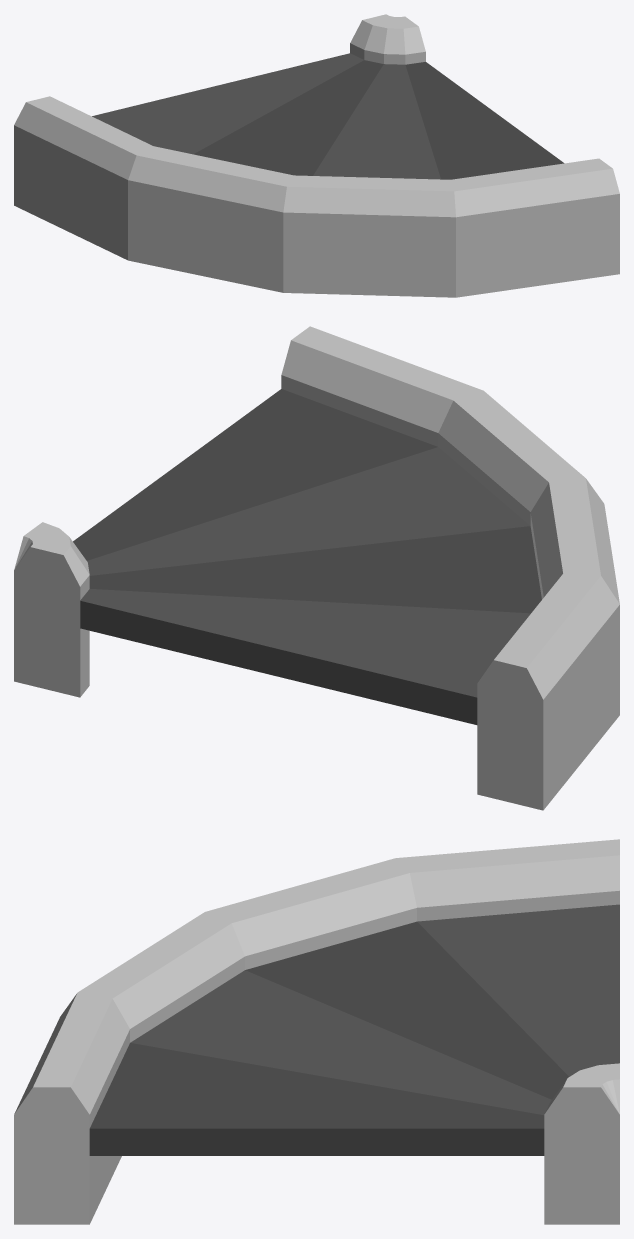
The model's file is CurveBelt.obj.
3 views of the same model, one above another, from view 1: azimuth 30°, elevation 25°; view 2: azimuth 150°, elevation 25°; view 3: azimuth 270°, elevation 25° (orthographic). The views are drawn at different scales.
Parts seen in each view (by area): view 1: Cylinder_Cylinder.001; view 2: Cylinder_Cylinder.001; view 3: Cylinder_Cylinder.001.
Boxes of the visible parts, x1=… form: Cylinder_Cylinder.001: x1=14, y1=14, x2=619, y2=297; Cylinder_Cylinder.001: x1=14, y1=326, x2=619, y2=810; Cylinder_Cylinder.001: x1=14, y1=839, x2=619, y2=1224.
Size of the model in its own units: 40 by 10 by 40.
Materials: 1 (1 with a texture image).
